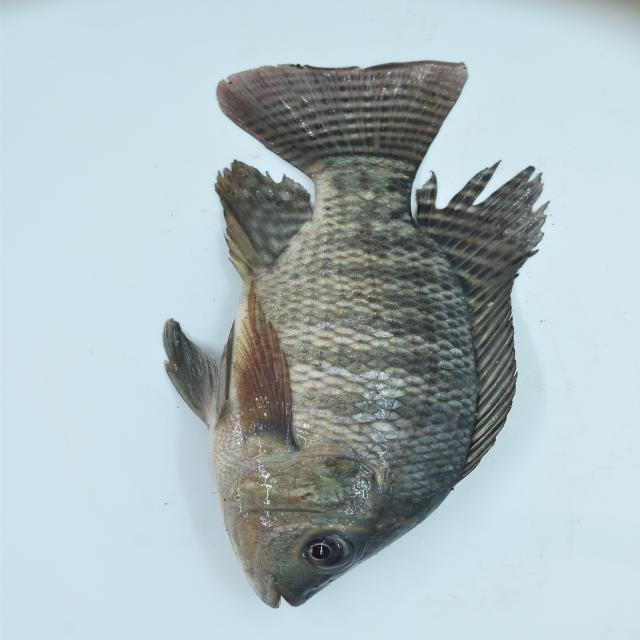Healthy Fish: (158, 67, 554, 609)
